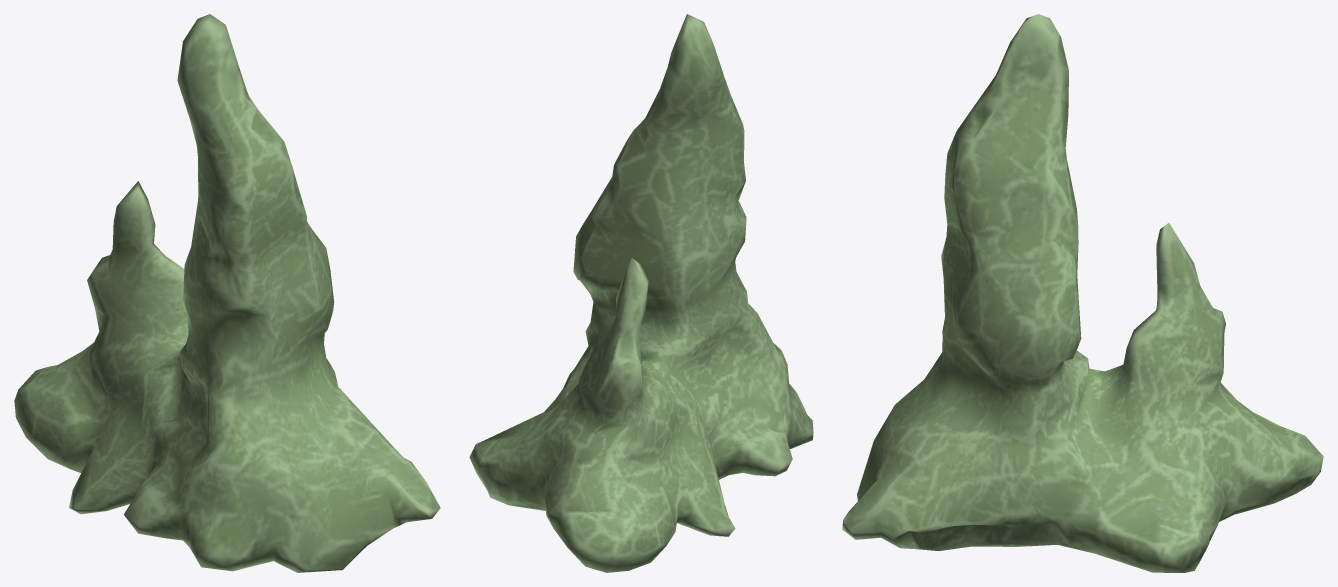
The model's file is stone-pillar.glb.
The picture shows the model from 3 angles, left to right: view 1: azimuth 30°, elevation 25°; view 2: azimuth 150°, elevation 25°; view 3: azimuth 270°, elevation 25°; orthographic projection. The views are drawn at different scales.
Parts seen in each view (by area): view 1: defaultMaterial; view 2: defaultMaterial; view 3: defaultMaterial.
Boxes of the visible parts, x1,y1,x2,y2 form: defaultMaterial: [14, 14, 440, 572]; defaultMaterial: [469, 14, 813, 572]; defaultMaterial: [842, 14, 1323, 572].
Bounding box in the file's own units: 0.5345 × 1 × 0.8611.
1 material, 1 textured.
